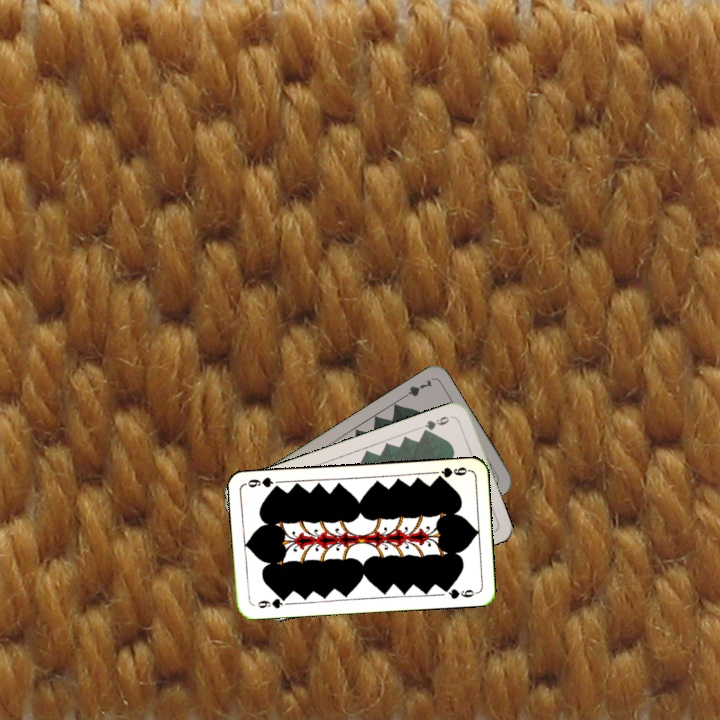G7: (397, 375, 435, 402)
G9: (419, 411, 456, 436), (432, 463, 472, 483), (250, 593, 290, 611)
